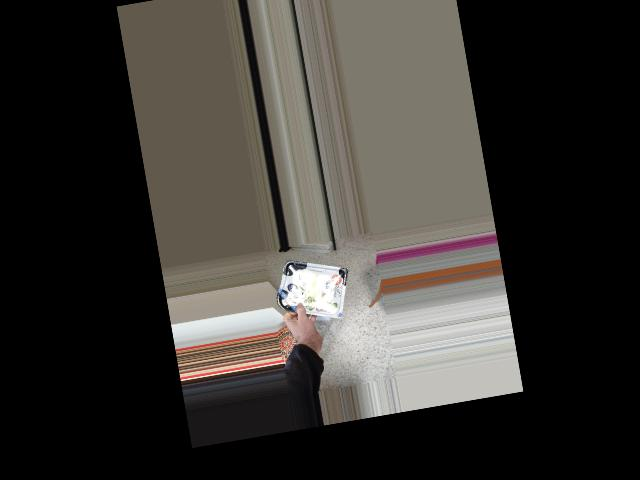cheese: (275, 259, 345, 315)
